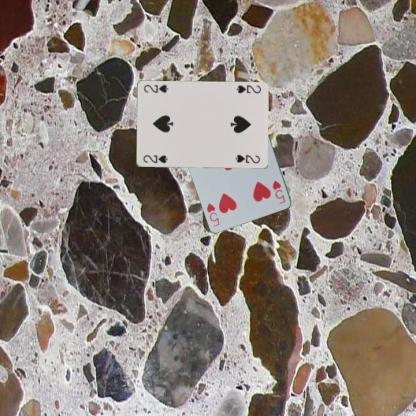2s: (140, 152, 169, 164), (233, 82, 262, 94)
5h: (270, 178, 286, 205)
